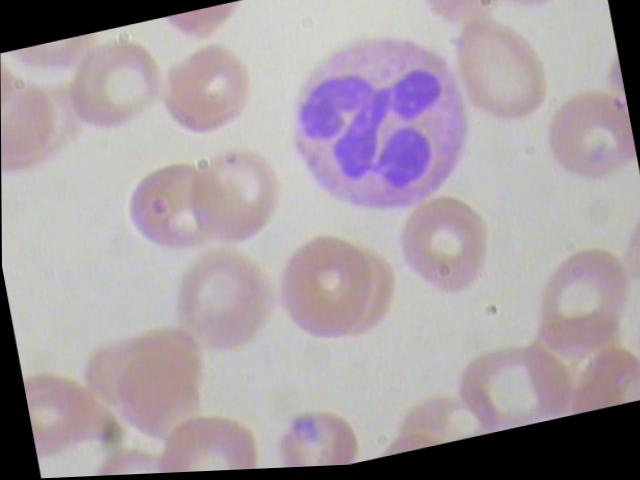Red Blood Cells: (518, 239, 639, 370), (439, 5, 554, 140), (54, 26, 174, 155), (176, 139, 296, 267), (108, 149, 228, 277), (170, 233, 283, 366), (268, 231, 382, 357), (389, 189, 500, 313), (531, 89, 639, 213), (152, 33, 263, 148), (149, 405, 264, 474), (258, 400, 369, 470), (77, 435, 190, 476)
White Blood Cells: (271, 10, 489, 236)
